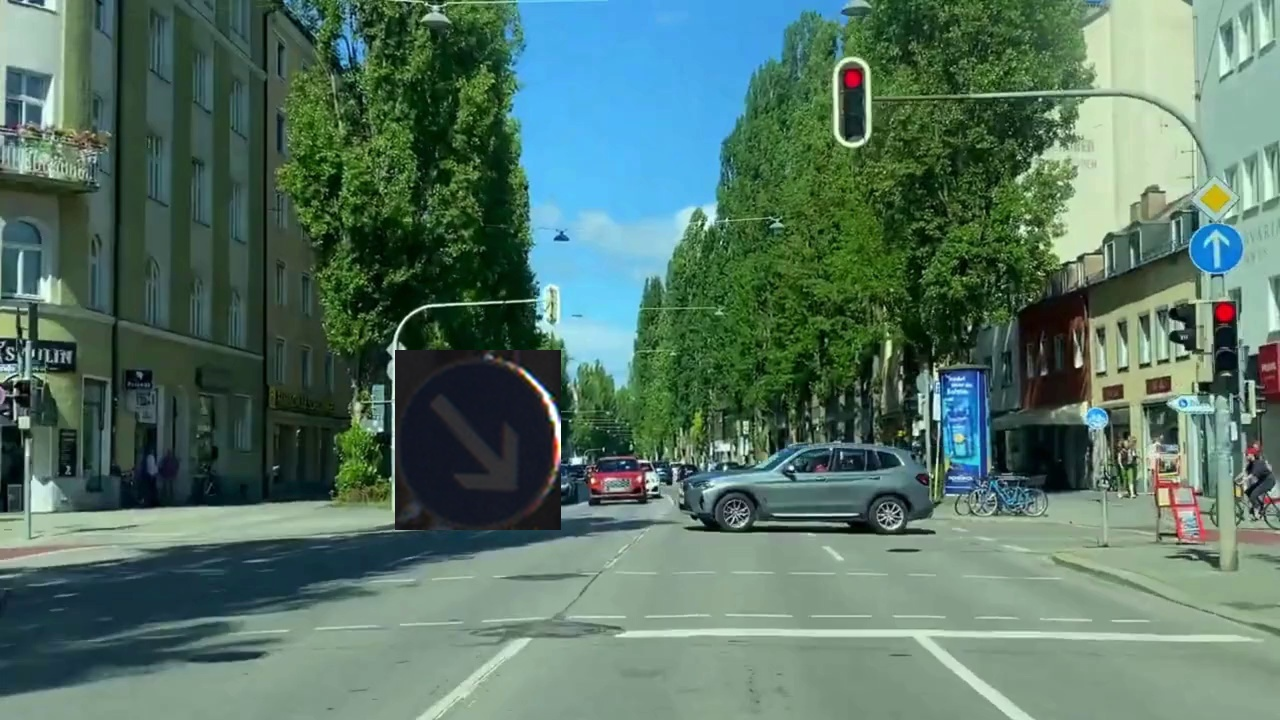Keep right: (395, 350, 561, 530)
